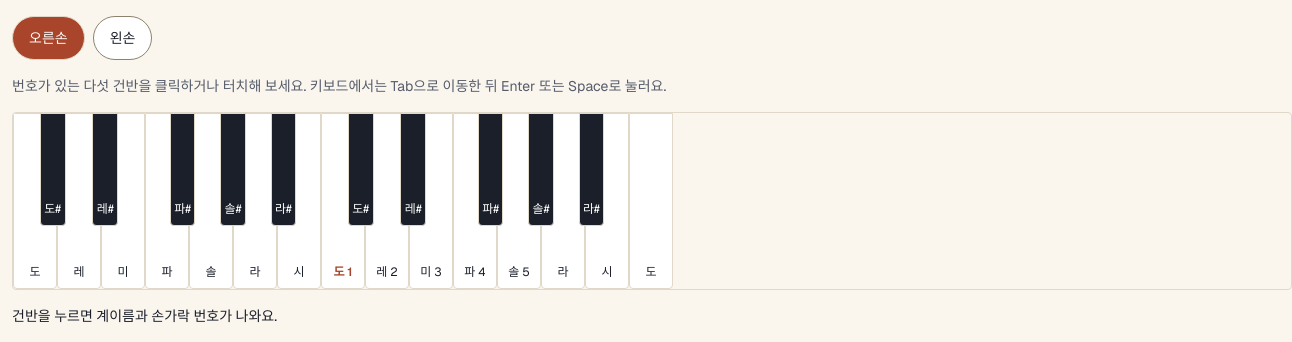
Test: clears key selection and guidance when switching hands in either direction
Step 1. Click the button named "오른손 가운데 도 (4옥타브), 손가락 1 엄지" → coordinates (343, 201), box [321,113,365,289]
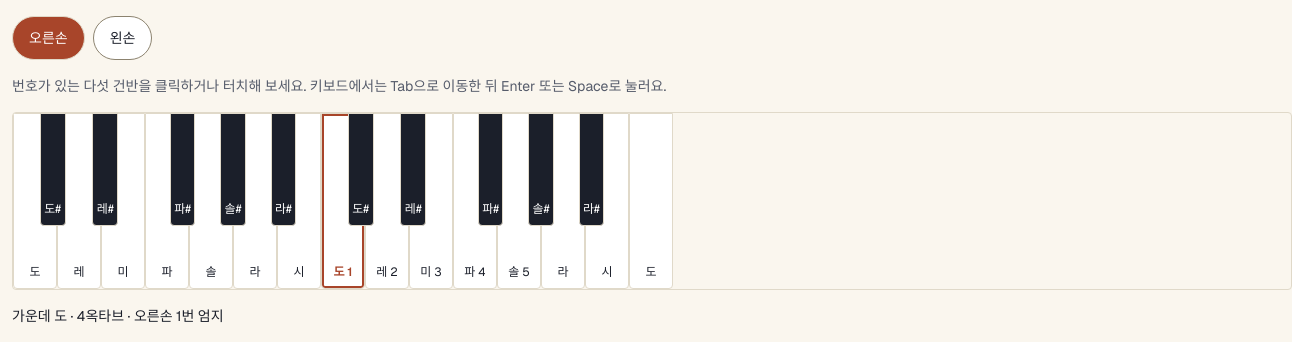
Step 2. Click the button "왼손" → coordinates (122, 38), box [93,16,152,60]
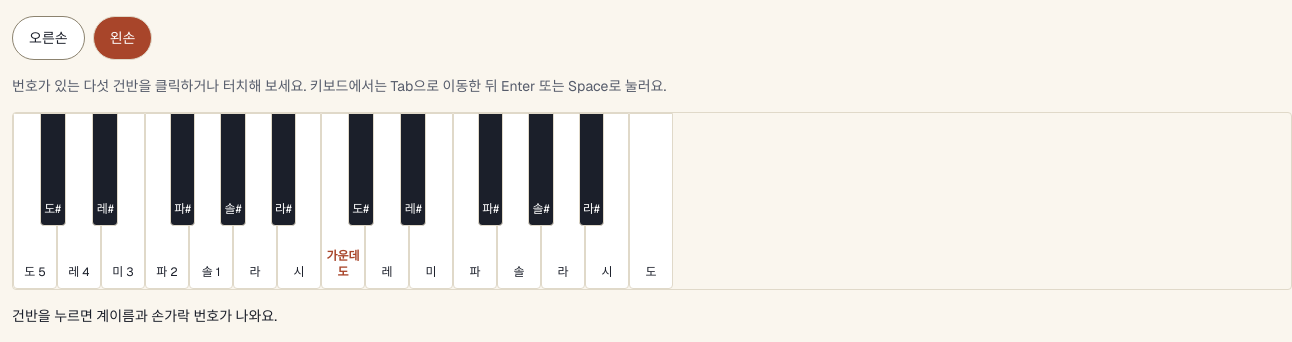
Check: the message named "누른 건반" reads "건반을 누르면 계이름과 손가락 번호가 나와요.", box [12,307,277,325]
Check: the message named "누른 건반" no longer shows "오른손 1번 엄지", box [12,307,277,325]
Step 3. Click the button named "왼손 도 (3옥타브), 손가락 5 새끼손가락" → coordinates (35, 201), box [13,113,57,289]
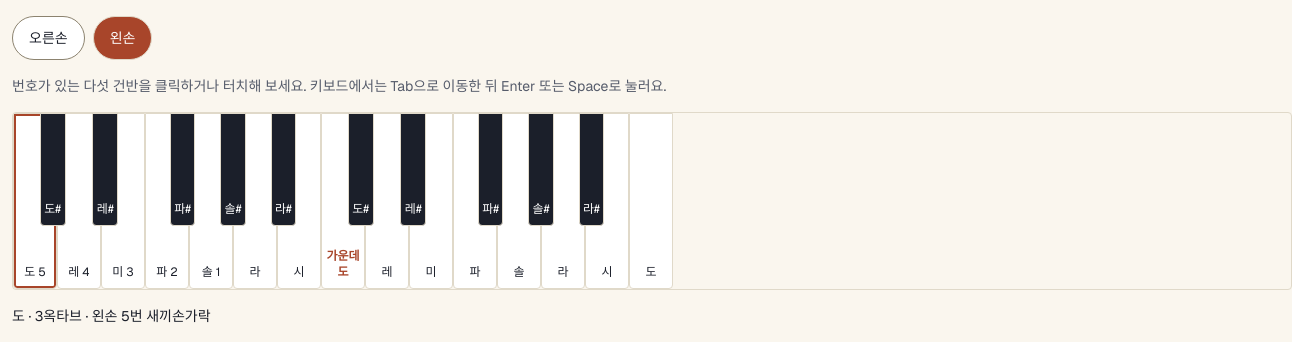
Step 4. Click the button "오른손" → coordinates (48, 38), box [12,16,85,60]
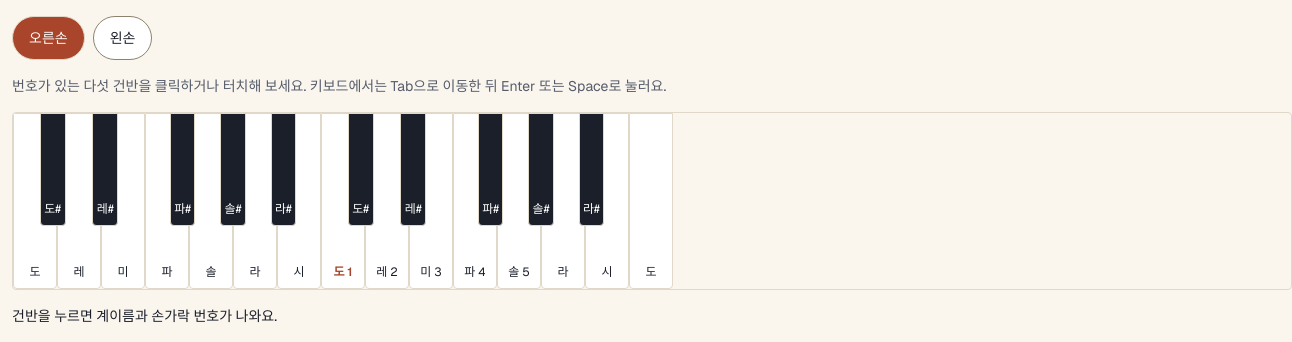
Check: the message named "누른 건반" reads "건반을 누르면 계이름과 손가락 번호가 나와요.", box [12,307,277,325]
Check: the message named "누른 건반" no longer shows "왼손 5번 새끼손가락", box [12,307,277,325]
